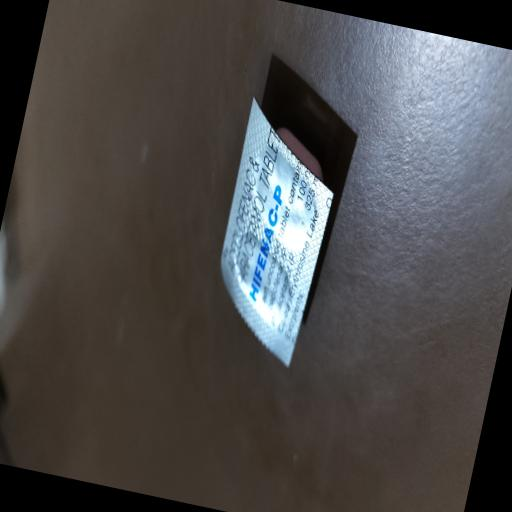hifenac-p: (239, 172, 291, 311)
medicine: (198, 108, 346, 365)
